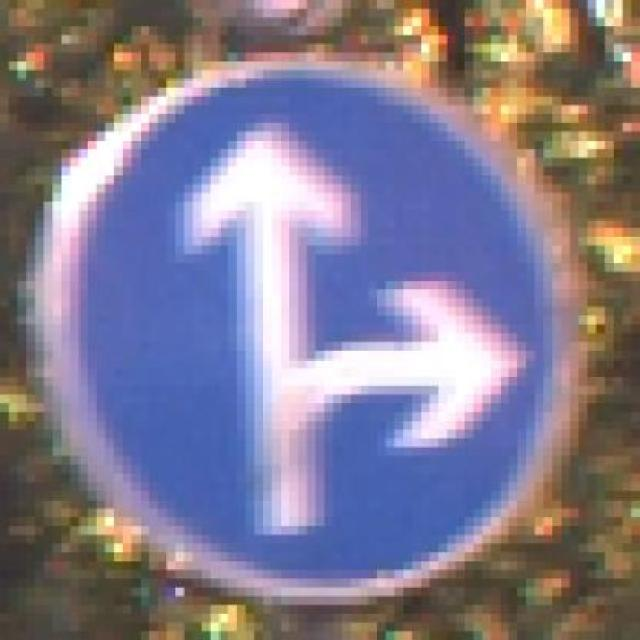Go Straight or Turn Right: (35, 35, 579, 614)
